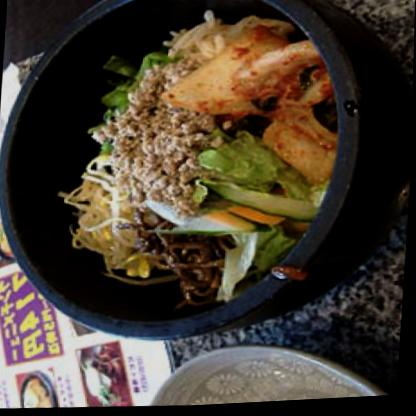bibimbap: (66, 7, 347, 313)
